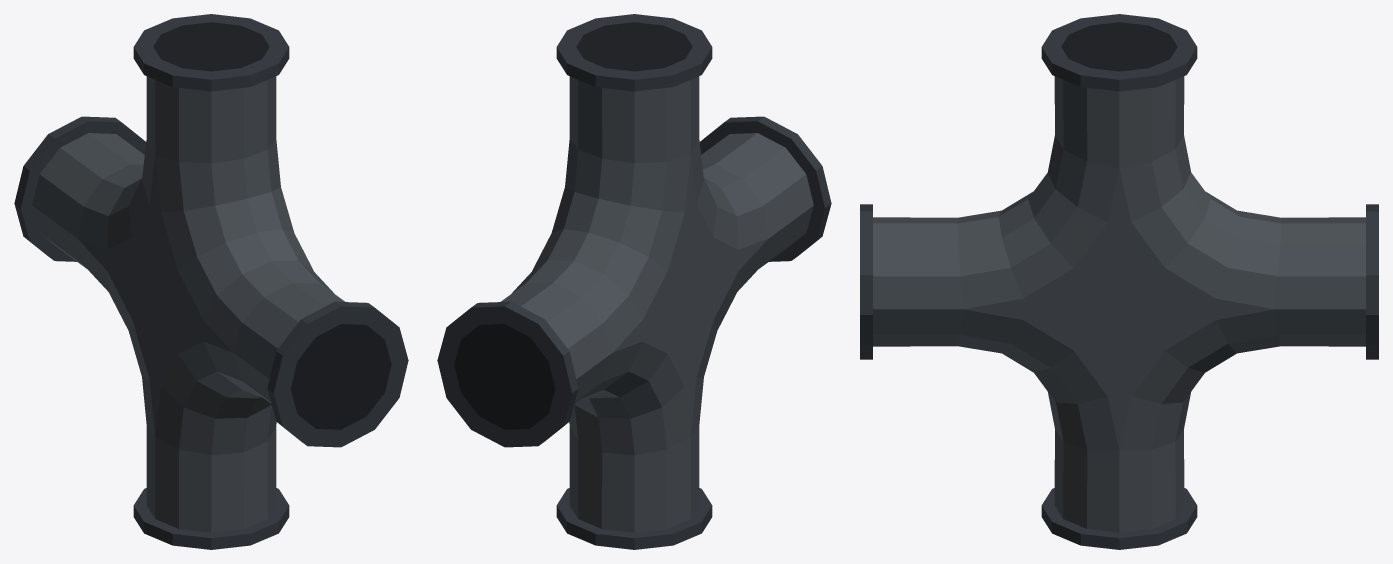
Rendered from Pipe_0.25x0.5_Junction.fbx.
3 renders of one model, left to right at view 1: azimuth 30°, elevation 25°; view 2: azimuth 150°, elevation 25°; view 3: azimuth 270°, elevation 25°, orthographic.
Visible parts, largest first — view 1: Pipe_0.25x0.5_Junction; view 2: Pipe_0.25x0.5_Junction; view 3: Pipe_0.25x0.5_Junction.
Part boxes in pixels (left/top/right/bottom): Pipe_0.25x0.5_Junction: left=14, top=14, right=408, bottom=549; Pipe_0.25x0.5_Junction: left=437, top=14, right=831, bottom=549; Pipe_0.25x0.5_Junction: left=860, top=14, right=1378, bottom=549.
Size of the model in its own units: 30 by 100 by 100.
